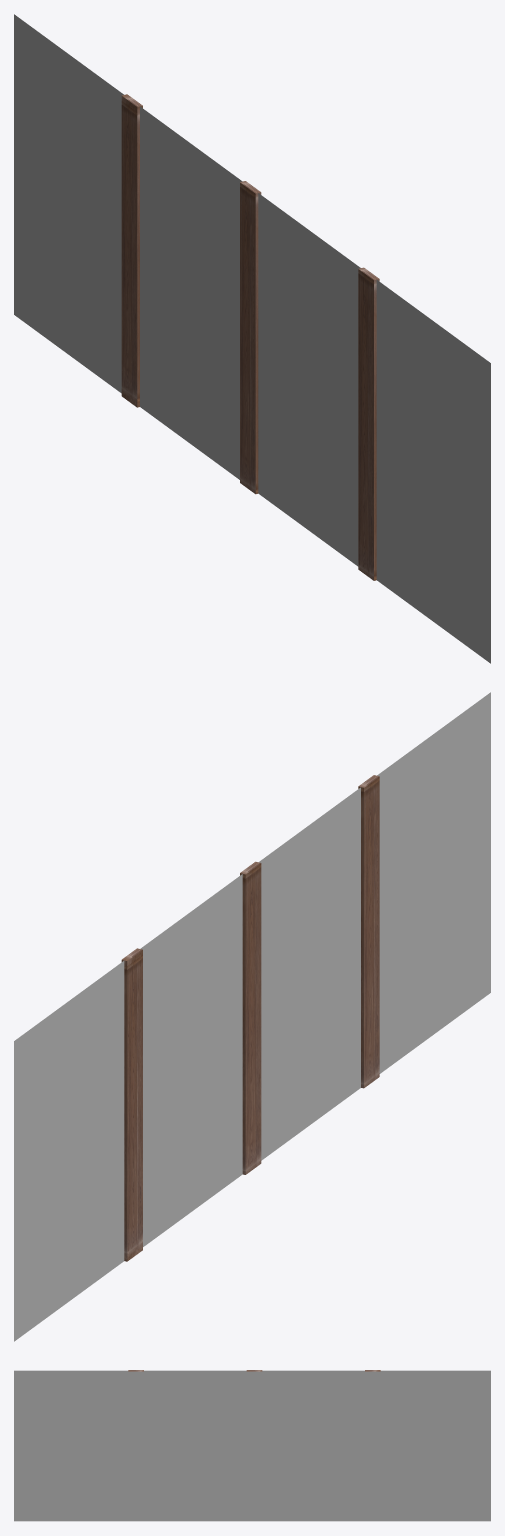
File: Victorian_Walls_Hall.fbx
The picture shows the model from 3 angles, top to bottom: view 1: azimuth 30°, elevation 25°; view 2: azimuth 150°, elevation 25°; view 3: azimuth 270°, elevation 25°; orthographic projection. The views are drawn at different scales.
Visible parts, largest first — view 1: polySurface4707; view 2: polySurface4707; view 3: polySurface4707.
Part boxes in pixels (x1,y1,x2,y2): polySurface4707: (14,14,490,663); polySurface4707: (14,692,490,1341); polySurface4707: (14,1370,490,1521).
Bounding box in the file's own units: 15 × 2191 × 762.
